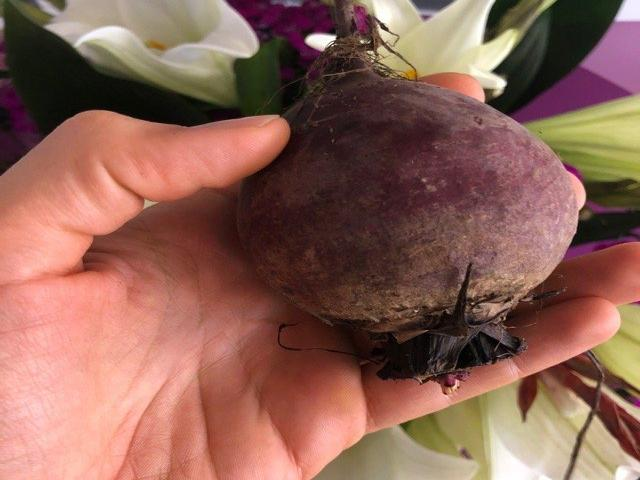beet: (237, 2, 580, 392)
